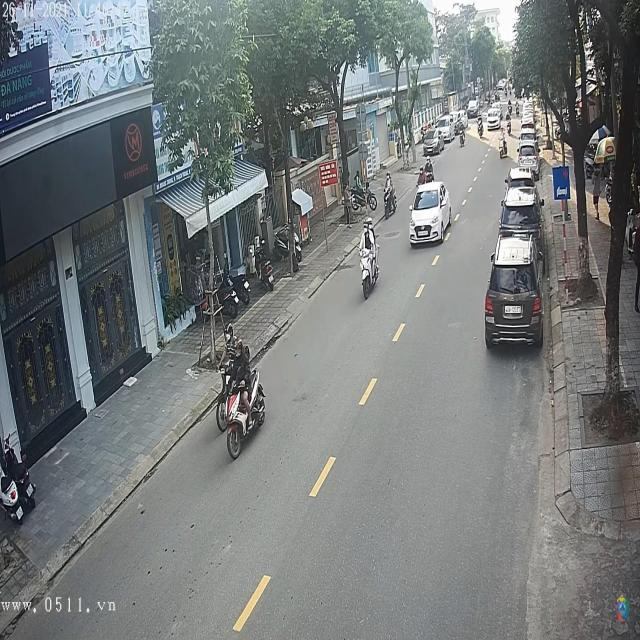car: (485, 235, 543, 349), (409, 182, 454, 248), (501, 184, 543, 239), (424, 125, 448, 155)
motorcycle: (225, 368, 267, 459), (360, 243, 382, 299), (384, 187, 397, 224)
